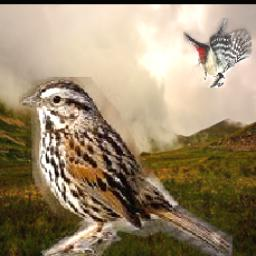Sparrow: (20, 77, 234, 256)
Woodpecker: (184, 18, 253, 87)
